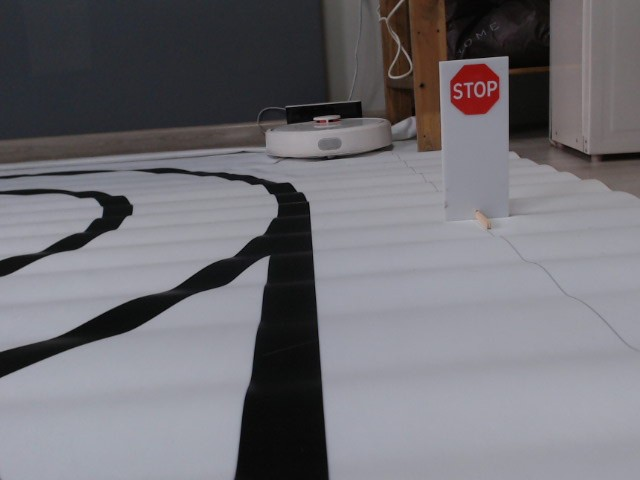Stop: (449, 62, 501, 117)
